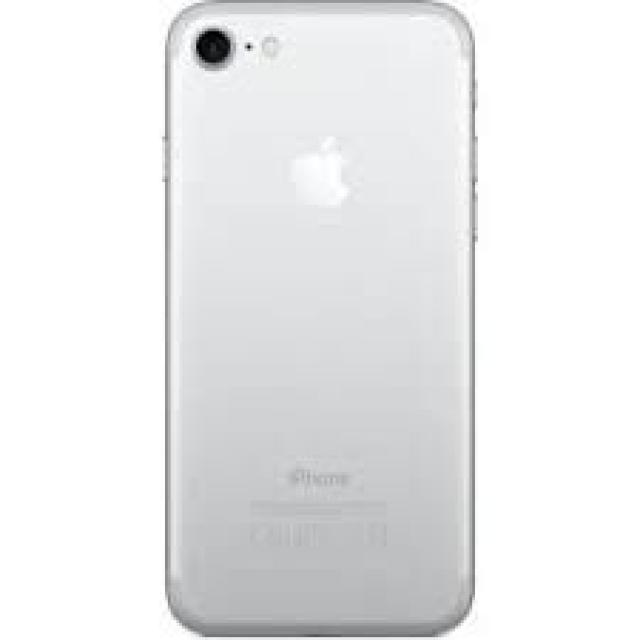mobile phone: (159, 0, 478, 637)
